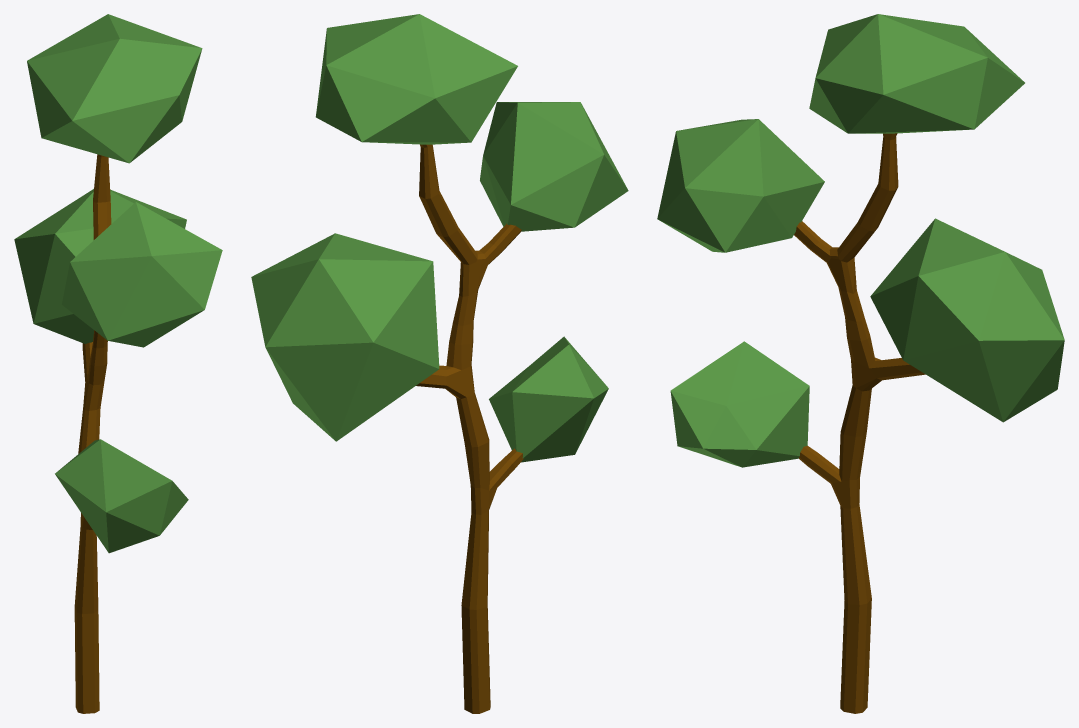
Rendered from Tree-1.fbx.
3 views of the same model, side by side, from view 1: azimuth 30°, elevation 25°; view 2: azimuth 150°, elevation 25°; view 3: azimuth 270°, elevation 25° (orthographic). The views are drawn at different scales.
Visible parts, largest first — view 1: Tree-1; view 2: Tree-1; view 3: Tree-1.
Part boxes in pixels (x1,y1,x2,y2): Tree-1: (14,14,222,713); Tree-1: (251,14,628,713); Tree-1: (657,14,1064,713).
Size of the model in its own units: 5.94 by 16.26 by 8.37.
